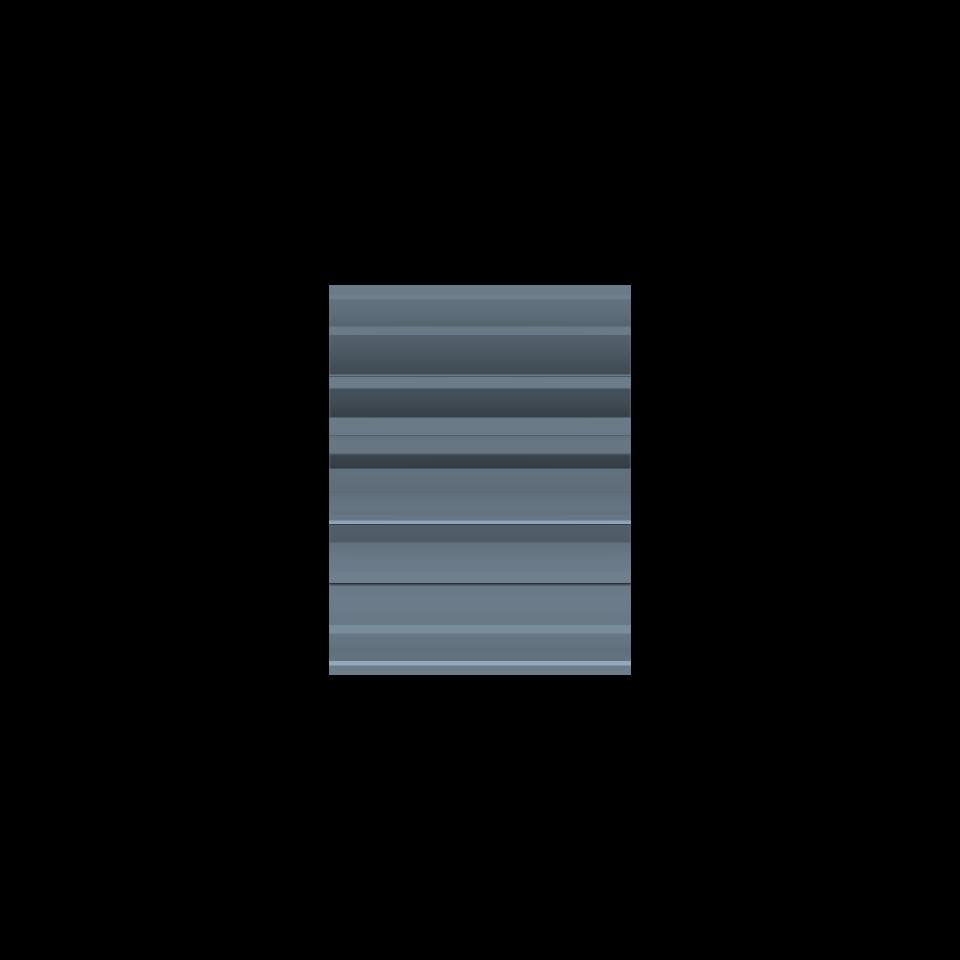Straight: (328, 284, 630, 674)
